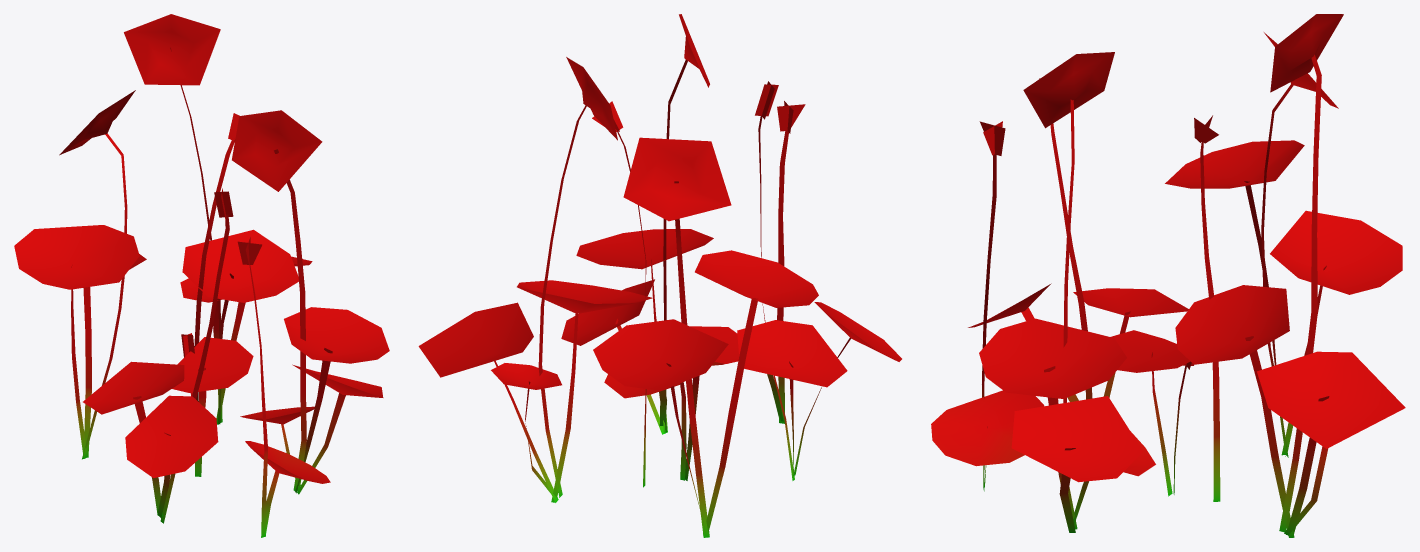
File: Native Violet_LOD4_Var15_ultkcfeja.fbx
3 renders of one model, left to right at view 1: azimuth 30°, elevation 25°; view 2: azimuth 150°, elevation 25°; view 3: azimuth 270°, elevation 25°, orthographic. The views are drawn at different scales.
Parts seen in each view (by area): view 1: _5jdy_Var15_LOD4; view 2: _5jdy_Var15_LOD4; view 3: _5jdy_Var15_LOD4.
Boxes of the visible parts, x1,y1,x2,y2 form: _5jdy_Var15_LOD4: [14, 14, 389, 537]; _5jdy_Var15_LOD4: [418, 14, 901, 537]; _5jdy_Var15_LOD4: [931, 14, 1405, 537].
Bounding box in the file's own units: 18.53 × 22.82 × 19.29.
